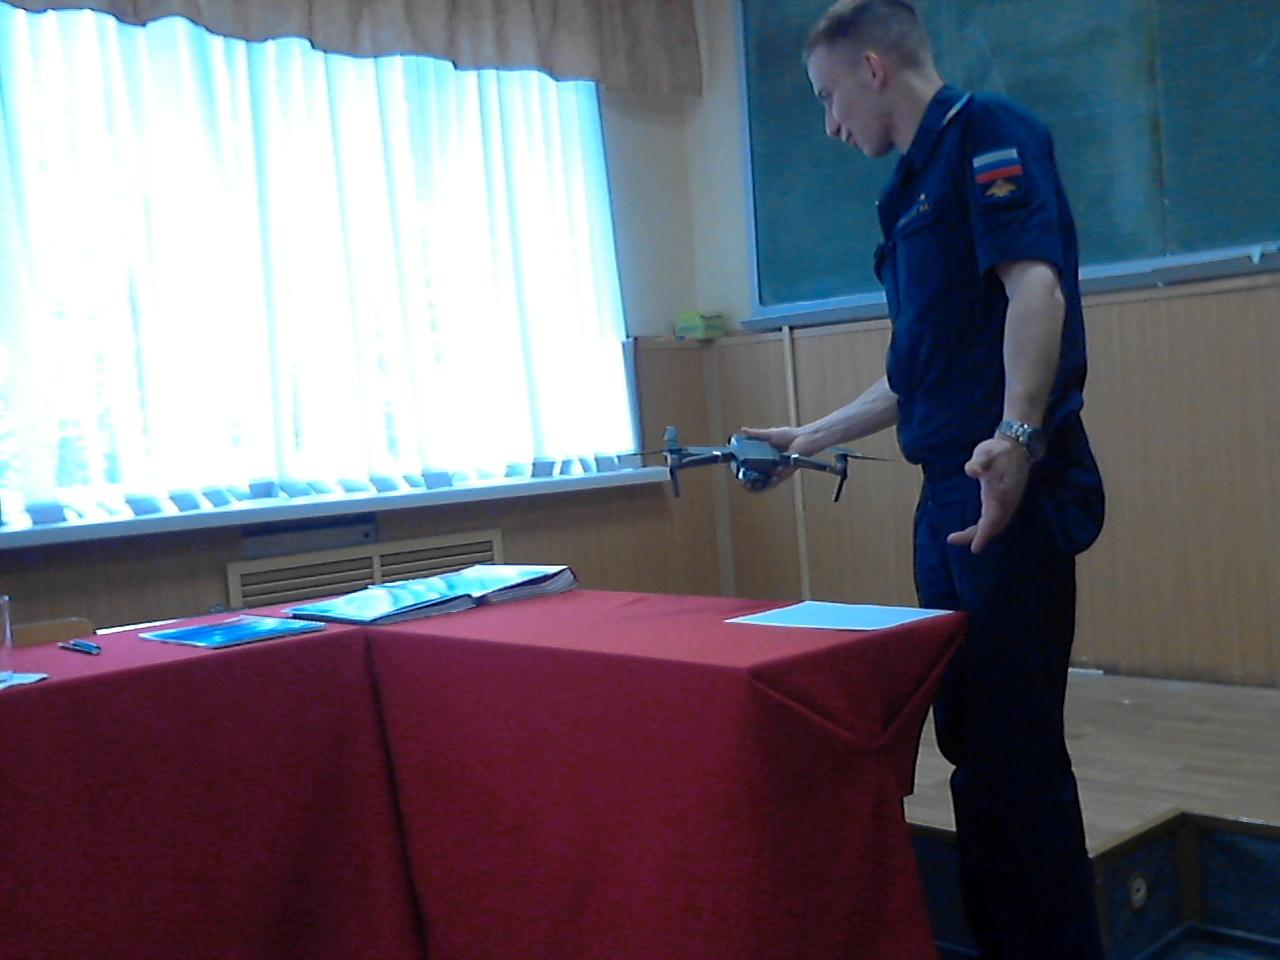drone: (640, 384, 887, 517)
